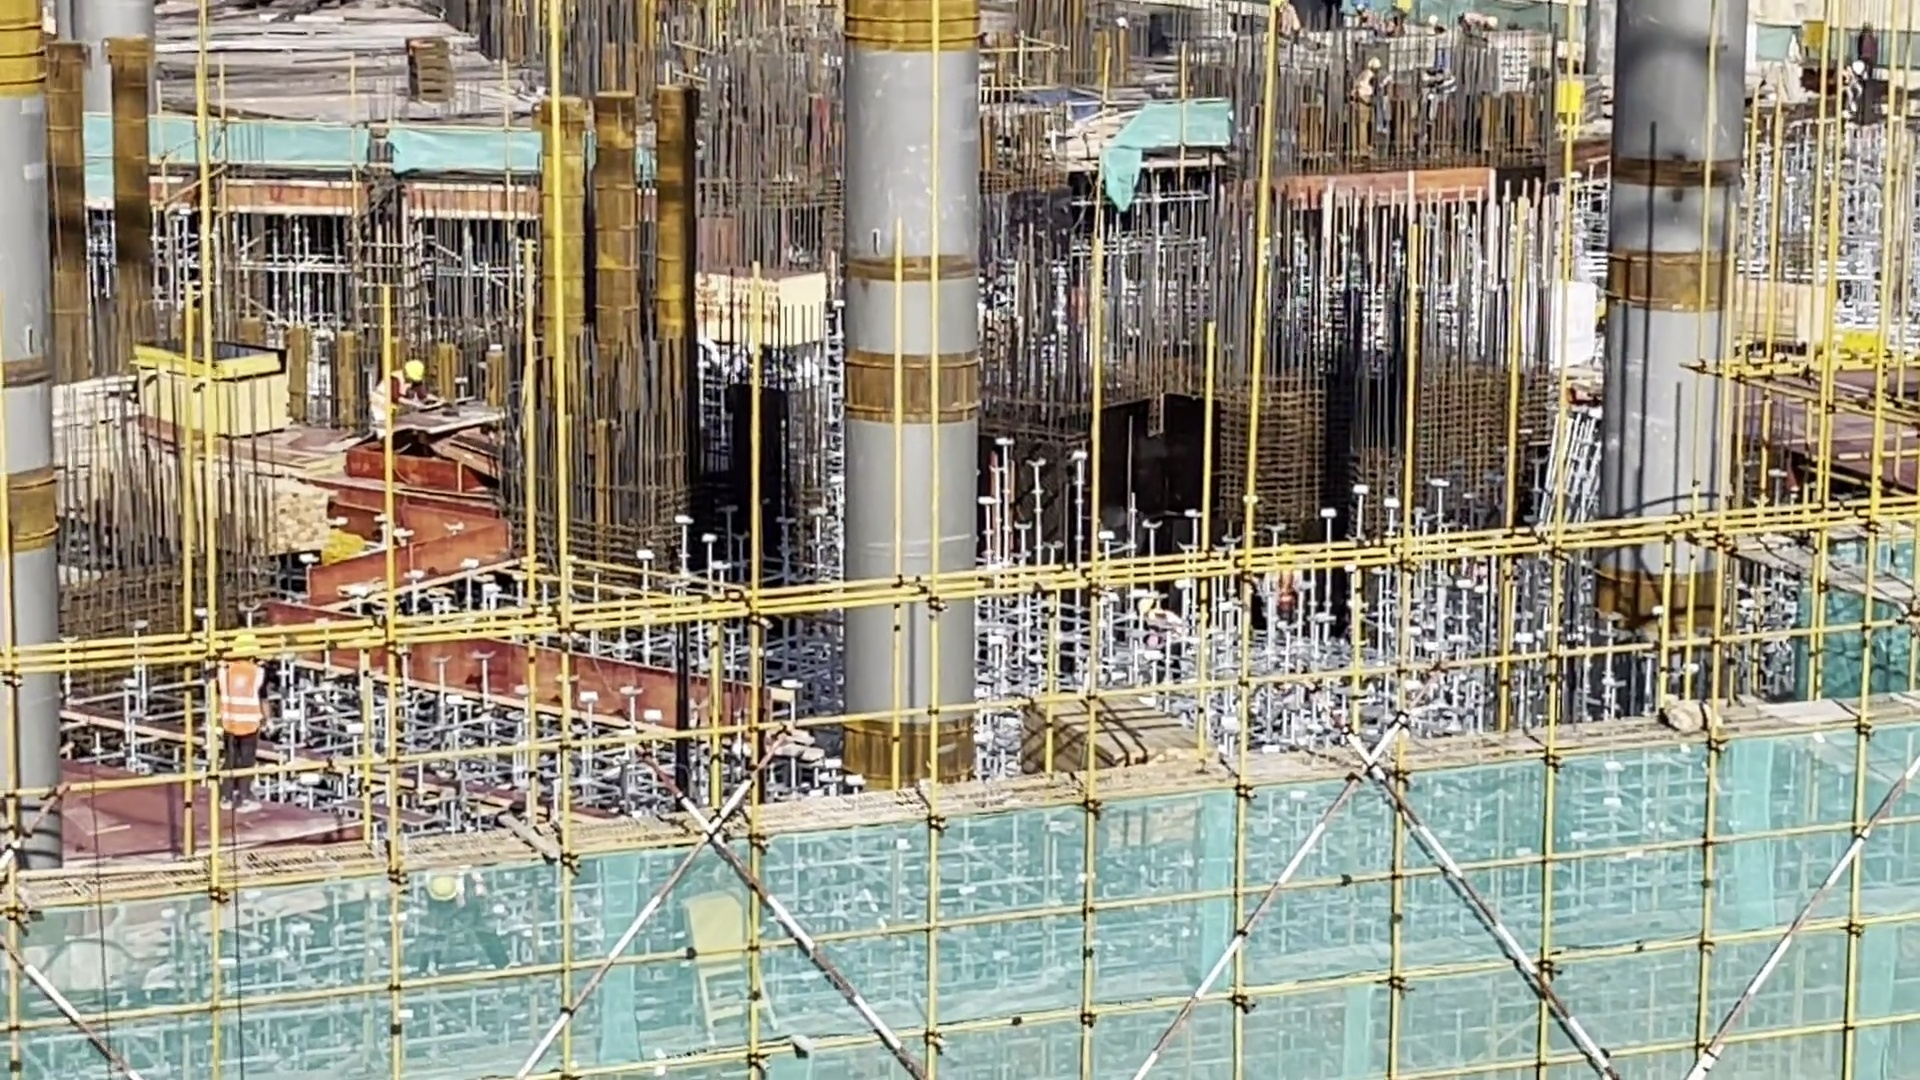helmet: (221, 629, 261, 652), (404, 359, 423, 381), (1130, 596, 1154, 612), (1853, 52, 1867, 74), (1489, 14, 1502, 36), (1431, 57, 1449, 71), (1283, 542, 1296, 561), (1861, 17, 1873, 37), (1369, 56, 1381, 73), (1427, 10, 1439, 23)
person: (199, 638, 281, 828), (372, 343, 462, 441), (1357, 48, 1392, 156), (1134, 588, 1174, 685), (1267, 538, 1301, 640), (1421, 55, 1456, 146), (1461, 3, 1504, 60), (1429, 13, 1457, 55), (1282, 1, 1309, 43), (1866, 21, 1885, 79), (1846, 55, 1866, 110), (1349, 1, 1381, 22), (1400, 1, 1414, 51)
vest: (221, 657, 266, 736), (1276, 562, 1306, 611), (379, 379, 409, 416), (1427, 61, 1453, 103), (1149, 616, 1191, 641), (1460, 10, 1494, 31), (1357, 69, 1373, 108), (1281, 9, 1300, 31), (1859, 36, 1875, 60), (1439, 25, 1455, 48), (1851, 77, 1867, 99), (1369, 12, 1383, 25), (1398, 2, 1412, 16)
